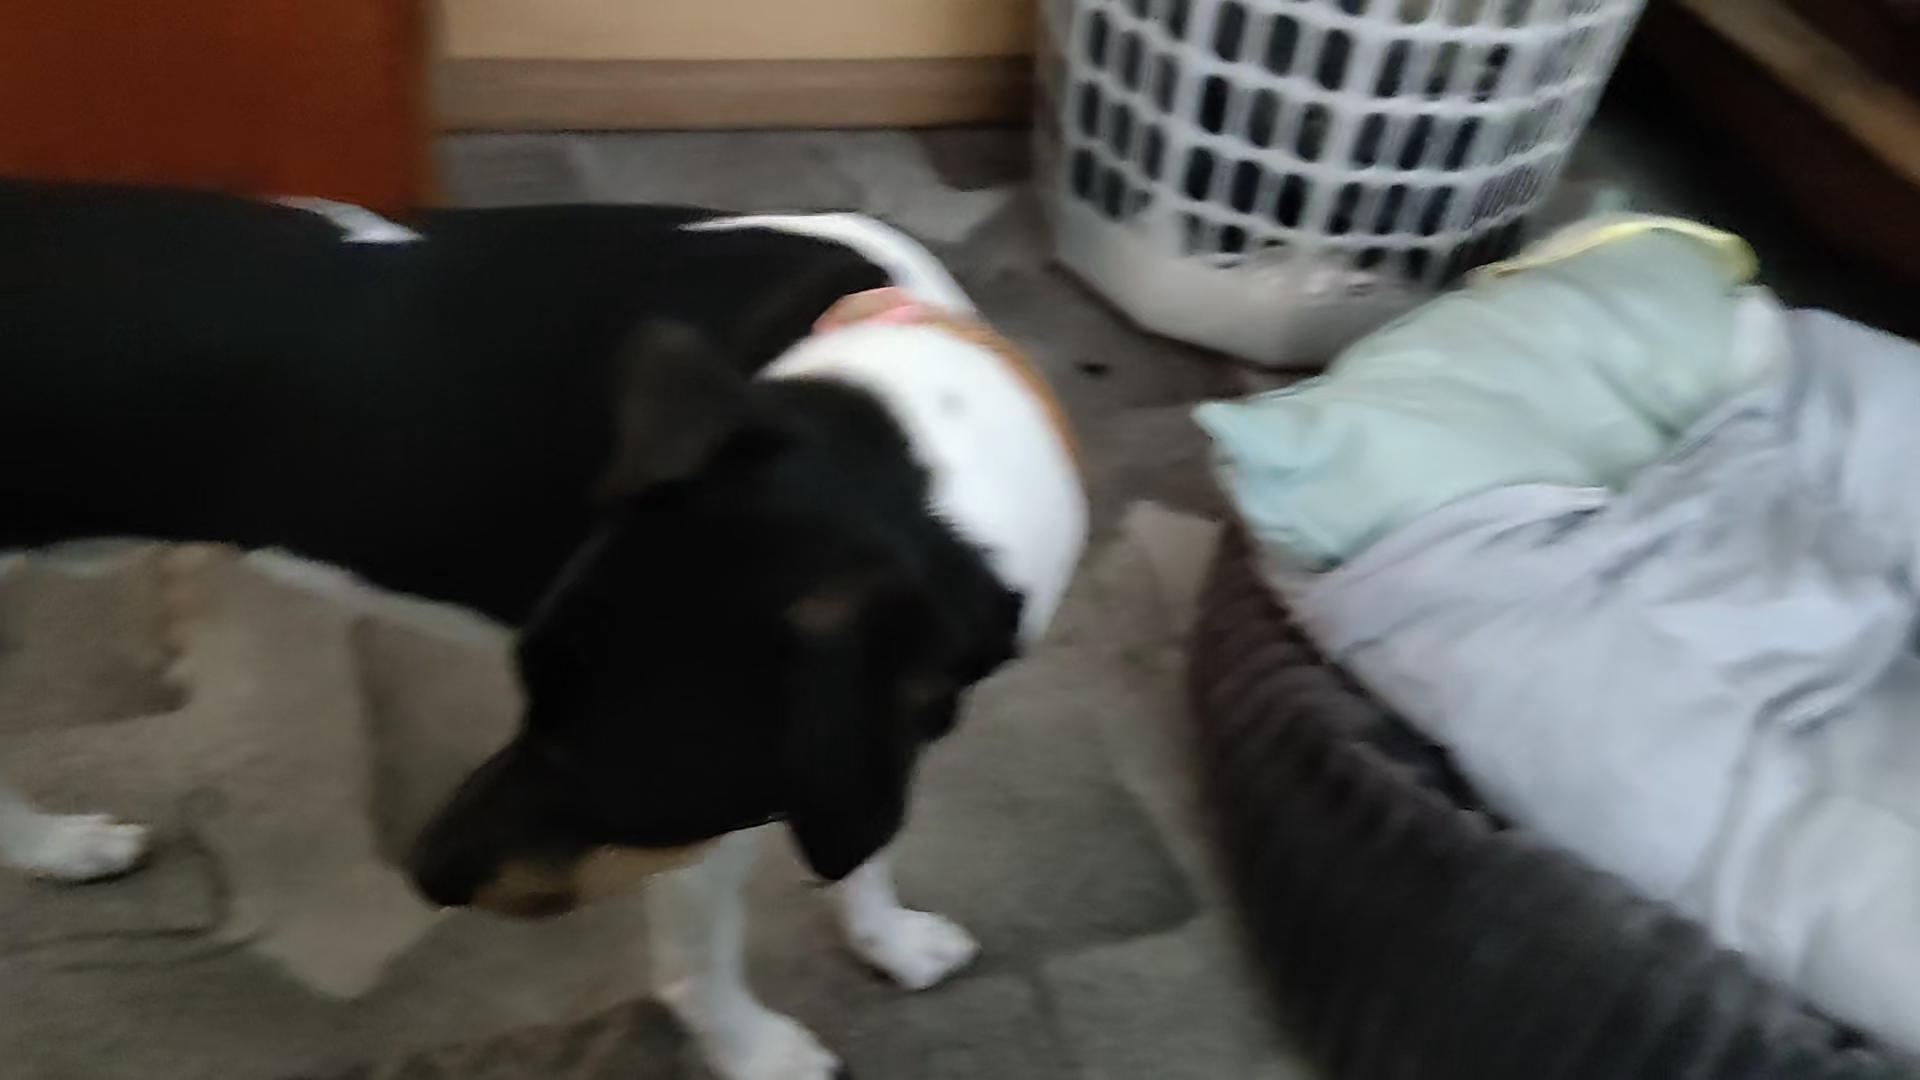Dog: (0, 150, 1101, 1079)
